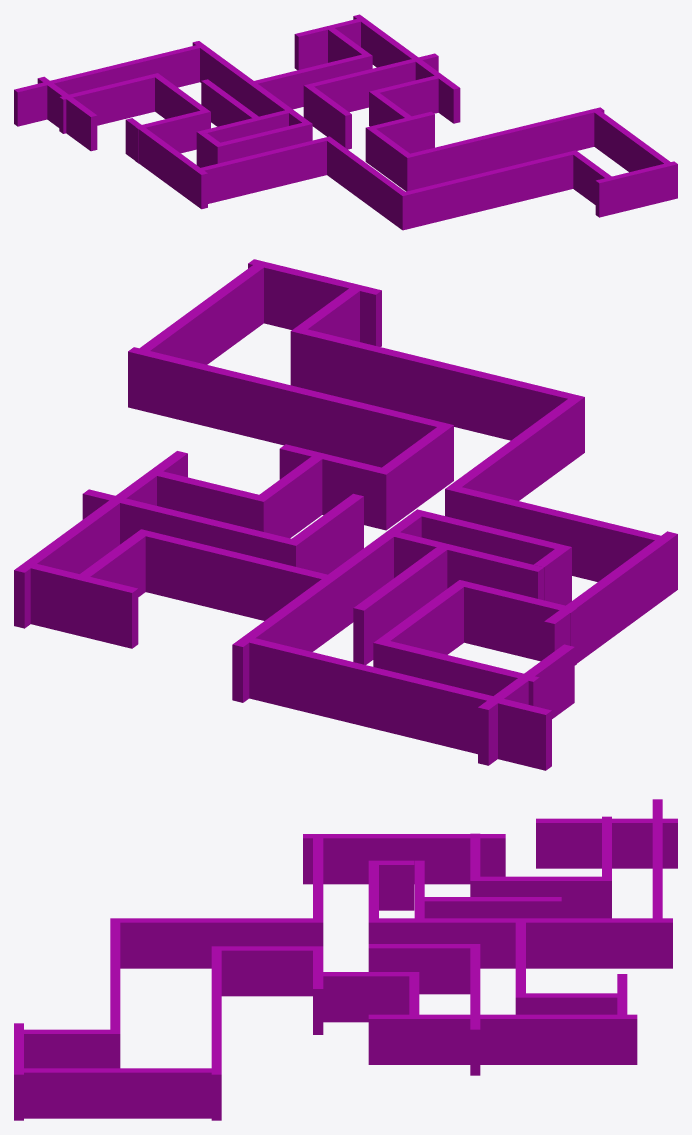
Rendered from rave_remesh_attempt_c.glb.
The picture shows the model from 3 angles, top to bottom: view 1: azimuth 30°, elevation 25°; view 2: azimuth 150°, elevation 25°; view 3: azimuth 270°, elevation 25°; orthographic projection. The views are drawn at different scales.
Parts seen in each view (by area): view 1: MeshInstance3D4; view 2: MeshInstance3D4; view 3: MeshInstance3D4.
Part boxes in pixels (x1=…): MeshInstance3D4: x1=14, y1=14, x2=677, y2=230; MeshInstance3D4: x1=14, y1=259, x2=677, y2=770; MeshInstance3D4: x1=14, y1=799, x2=677, y2=1120.
Bounding box in the file's own units: 64.3 × 5 × 65.5.
